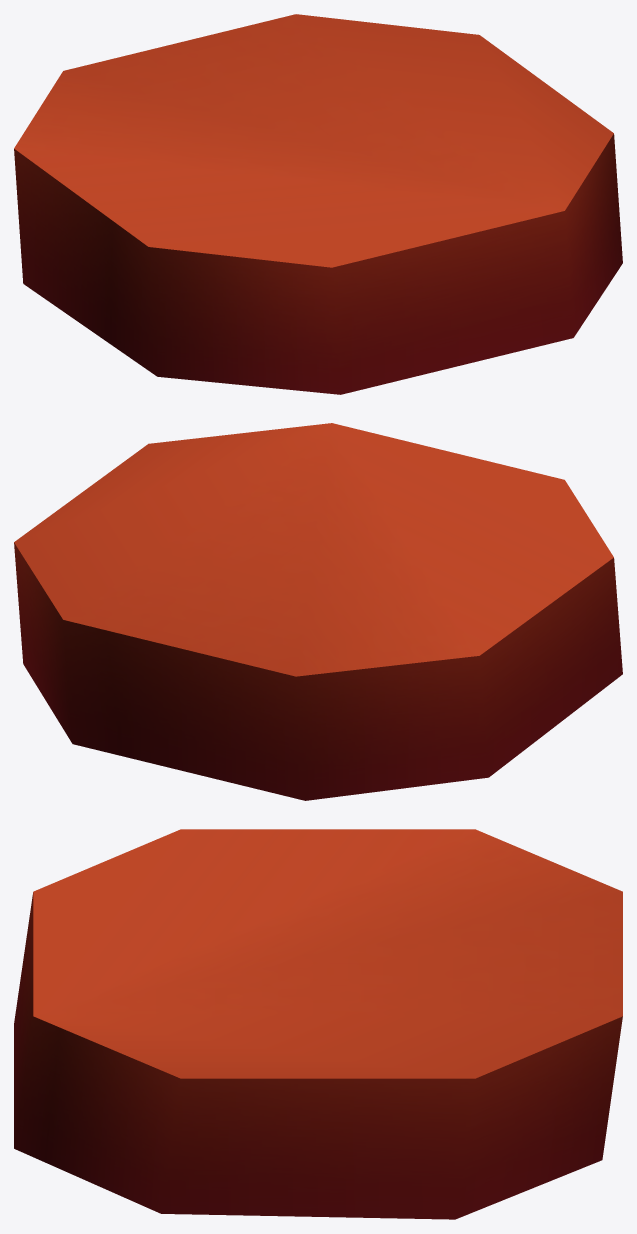
File: sausage_slice.fbx
3 views of the same model, one above another, from view 1: azimuth 30°, elevation 25°; view 2: azimuth 150°, elevation 25°; view 3: azimuth 270°, elevation 25° (orthographic). The views are drawn at different scales.
Parts seen in each view (by area): view 1: sausage_slice; view 2: sausage_slice; view 3: sausage_slice.
Part boxes in pixels (left/top/right/bottom): sausage_slice: left=14, top=14, right=622, bottom=394; sausage_slice: left=14, top=423, right=622, bottom=800; sausage_slice: left=14, top=829, right=622, bottom=1219.
Size of the model in its own units: 14.38 by 3.87 by 14.85.
